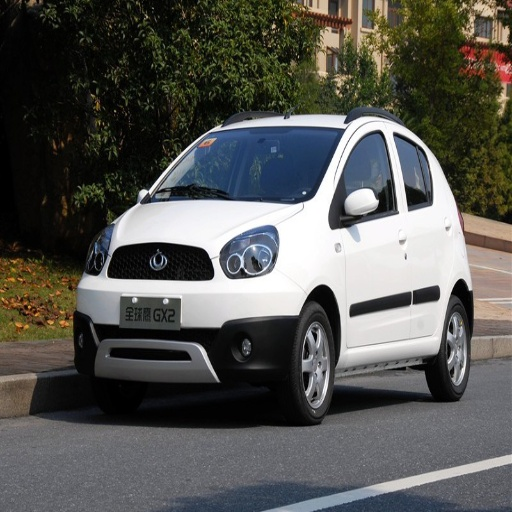front_bumper: (77, 238, 306, 386)
front_glass: (143, 131, 343, 203)
front_left_door: (331, 123, 410, 348)
